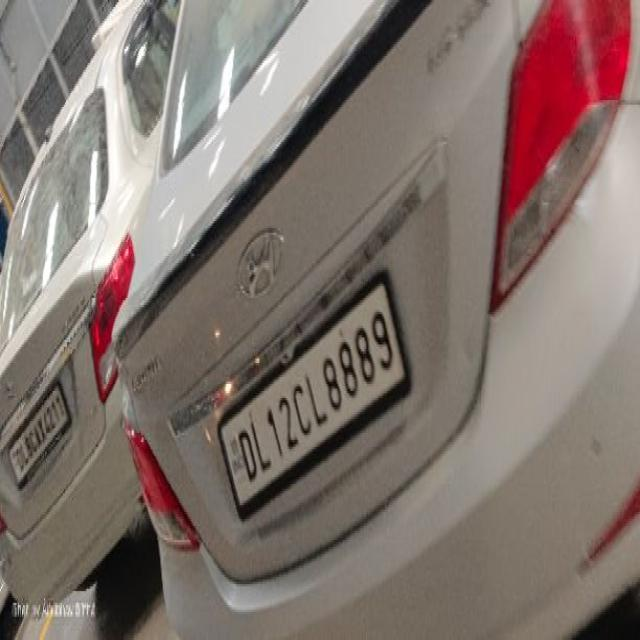license_plate: (216, 265, 411, 519), (7, 375, 72, 486)
